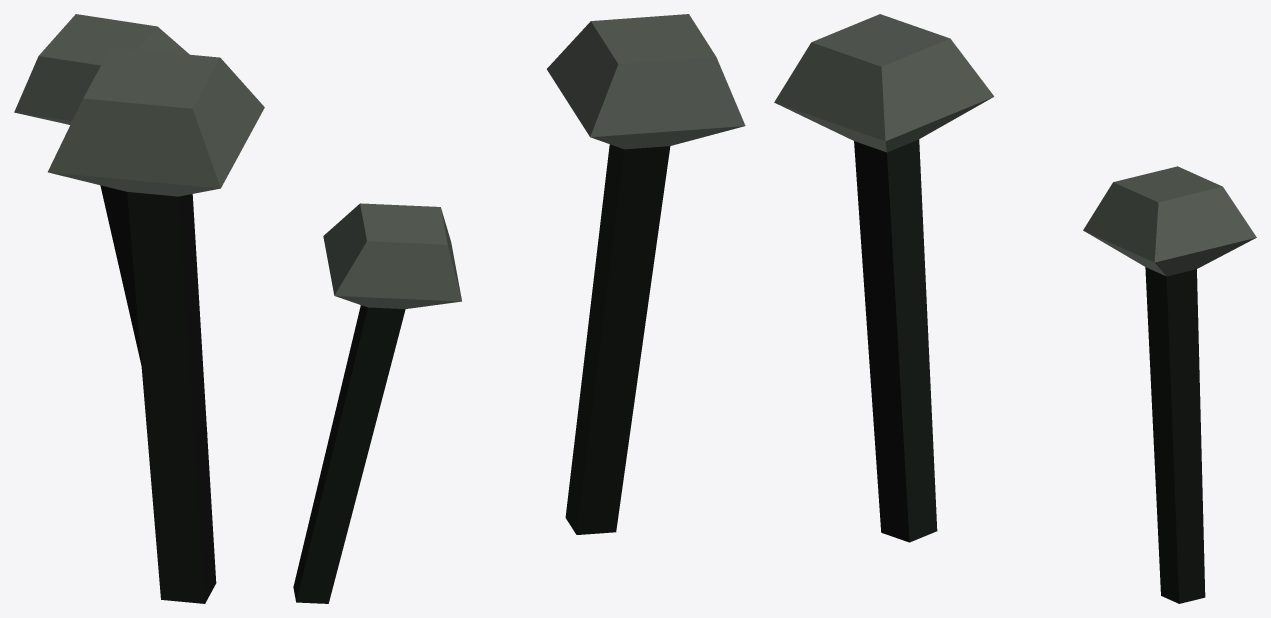
Rendered from SF_Env_Elven_Flower_01.glb.
The picture shows the model from 3 angles, left to right: view 1: azimuth 30°, elevation 25°; view 2: azimuth 150°, elevation 25°; view 3: azimuth 270°, elevation 25°; orthographic projection. The views are drawn at different scales.
Visible parts, largest first — view 1: SF_Env_Elven_Flower_01; view 2: SF_Env_Elven_Flower_01; view 3: SF_Env_Elven_Flower_01.
Boxes of the visible parts, x1=… form: SF_Env_Elven_Flower_01: x1=14, y1=14, x2=264, y2=603; SF_Env_Elven_Flower_01: x1=293, y1=14, x2=745, y2=603; SF_Env_Elven_Flower_01: x1=774, y1=14, x2=1256, y2=603.
Size of the model in its own units: 0.00832 by 0.0131 by 0.0121.
Materials: 1 (1 with a texture image).
